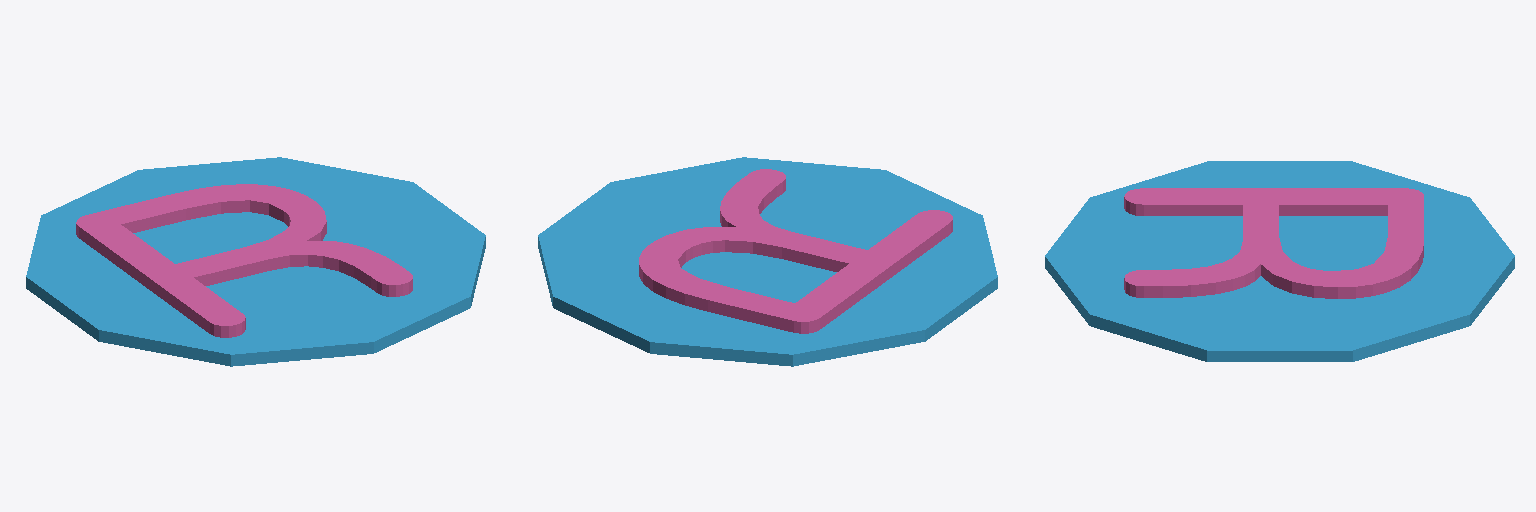
3 views of the same model, side by side, from view 1: azimuth 30°, elevation 25°; view 2: azimuth 150°, elevation 25°; view 3: azimuth 270°, elevation 25° (orthographic).
Parts seen in each view (by area): view 1: Mesh2 Model, Mesh1 R1 Model; view 2: Mesh2 Model, Mesh1 R1 Model; view 3: Mesh2 Model, Mesh1 R1 Model.
Boxes of the visible parts, x1,y1,x2,y2 form: Mesh2 Model: [26, 157, 485, 366]; Mesh1 R1 Model: [76, 184, 412, 337]; Mesh2 Model: [538, 157, 997, 366]; Mesh1 R1 Model: [639, 169, 952, 333]; Mesh2 Model: [1045, 161, 1514, 361]; Mesh1 R1 Model: [1124, 188, 1423, 298].
Size of the model in its own units: 0.2739 by 0.016 by 0.288.
Materials: 2 (2 with a texture image).